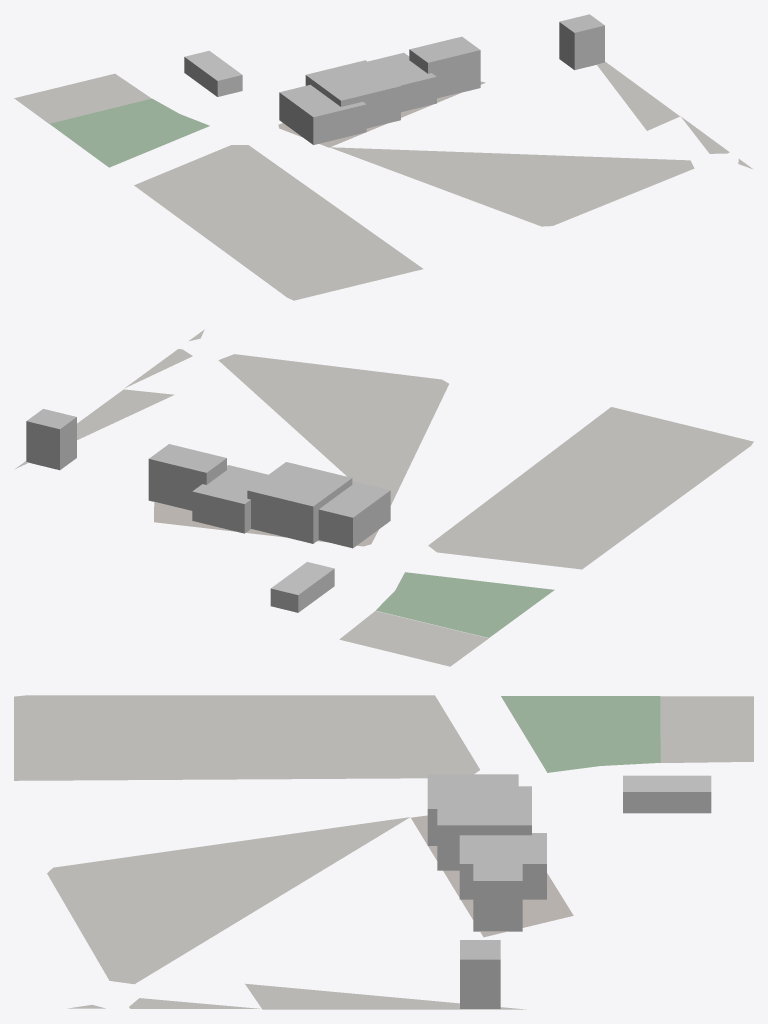
Rendered from 97_104_mid.glb.
3 renders of one model, top to bottom at view 1: azimuth 30°, elevation 25°; view 2: azimuth 150°, elevation 25°; view 3: azimuth 270°, elevation 25°, orthographic. The views are drawn at different scales.
Size of the model in its own units: 500 by 37.87 by 500.
